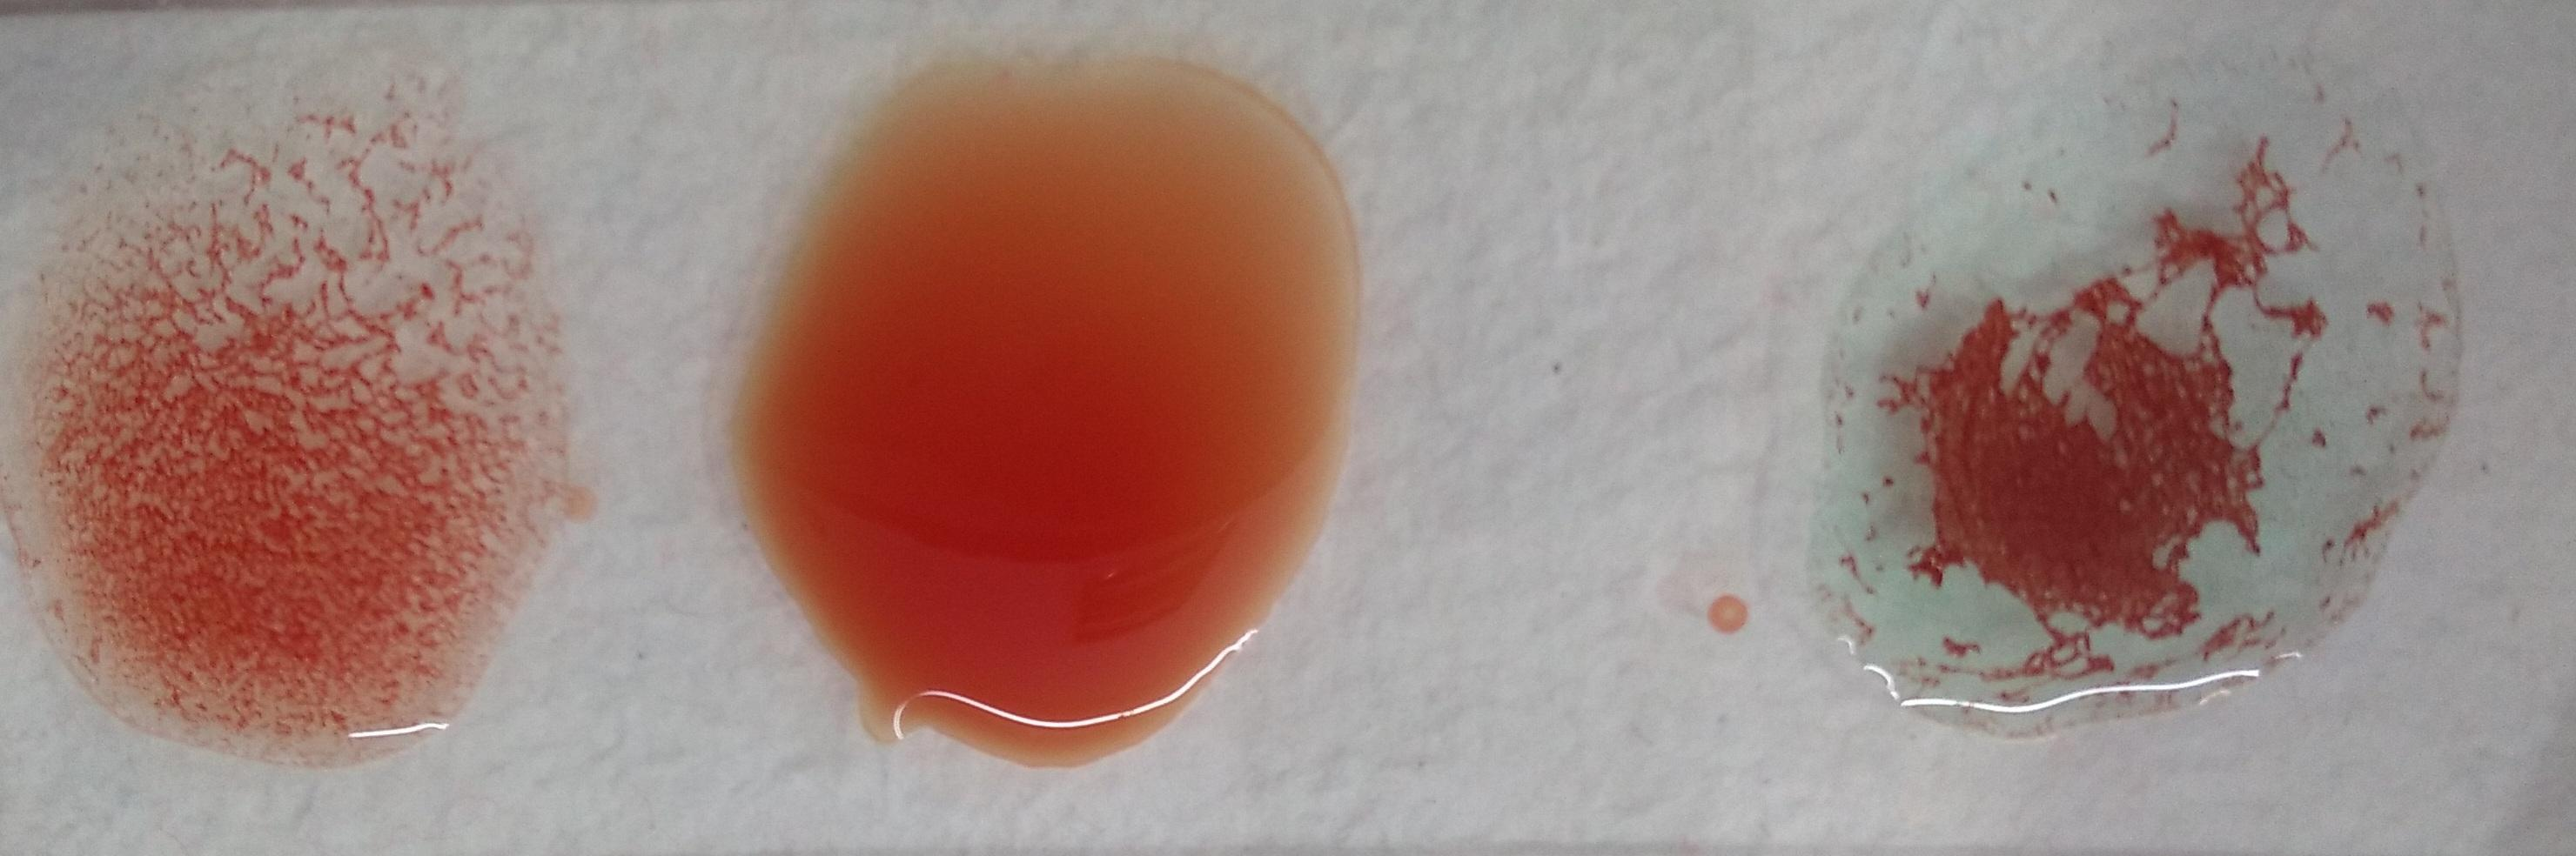A: (1807, 59, 2431, 725)
D: (15, 59, 563, 769)
